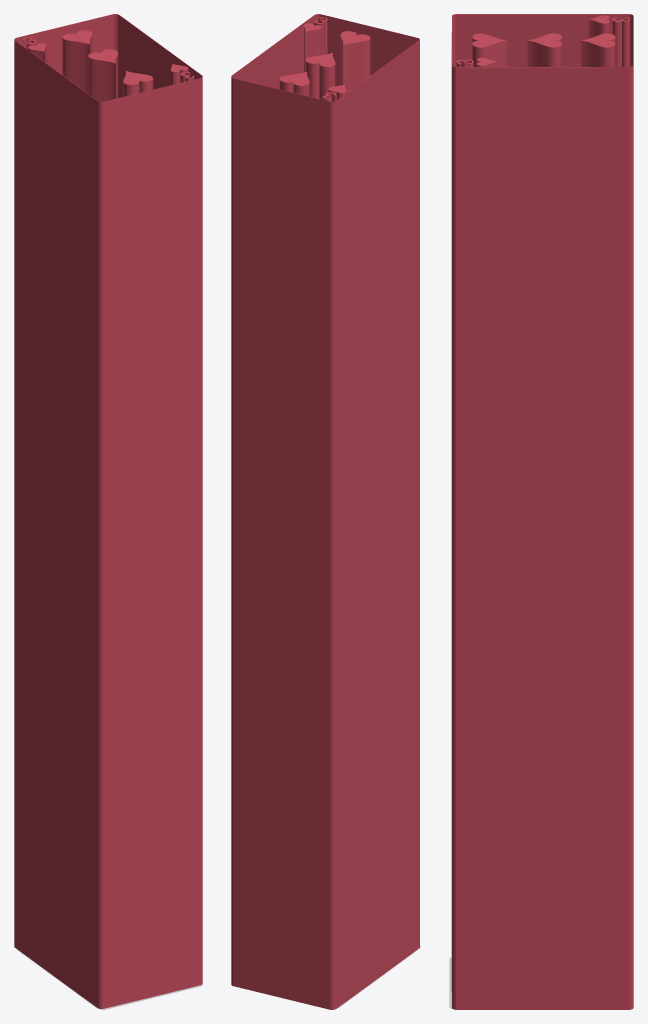
File: 3_hearts.glb
3 renders of one model, left to right at view 1: azimuth 30°, elevation 25°; view 2: azimuth 150°, elevation 25°; view 3: azimuth 270°, elevation 25°, orthographic. The views are drawn at different scales.
Visible parts, largest first — view 1: Mesh_Mesh_head_geo.001_lambert2SG.001; view 2: Mesh_Mesh_head_geo.001_lambert2SG.001; view 3: Mesh_Mesh_head_geo.001_lambert2SG.001.
Boxes of the visible parts, bbox=[...] form: Mesh_Mesh_head_geo.001_lambert2SG.001: bbox=[14, 14, 202, 1009]; Mesh_Mesh_head_geo.001_lambert2SG.001: bbox=[231, 14, 420, 1009]; Mesh_Mesh_head_geo.001_lambert2SG.001: bbox=[449, 14, 633, 1009].
Size of the model in its own units: 1.22 by 10 by 1.78.
